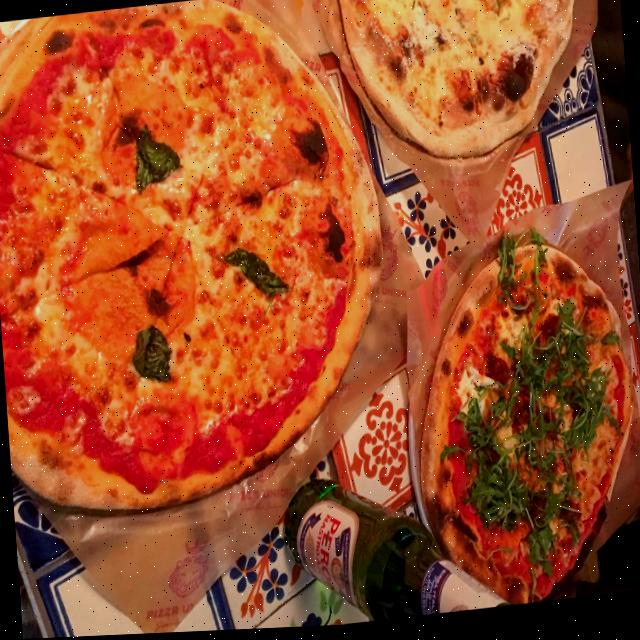basil: (219, 243, 290, 307), (128, 120, 182, 197), (127, 321, 172, 388)
pizza: (0, 0, 395, 521)
